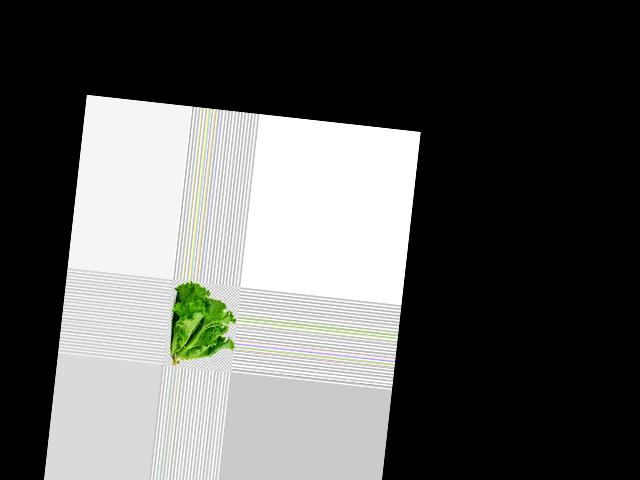lettuce: (168, 281, 240, 372)
